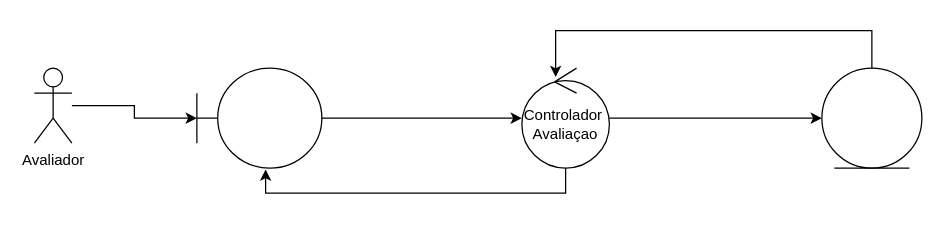
This 944x225 diagram has some shape labels left out. Here are the shapes that lost their labels. From the top down, the centre of each, then its label:
At point 259,117: "Tela Avaliaçao".
At point 871,117: "BD Relatorios".
